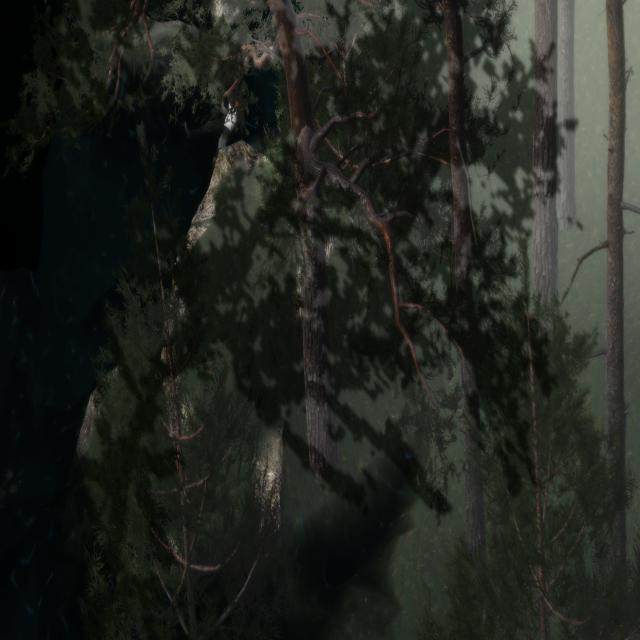Human: (178, 92, 249, 170)
